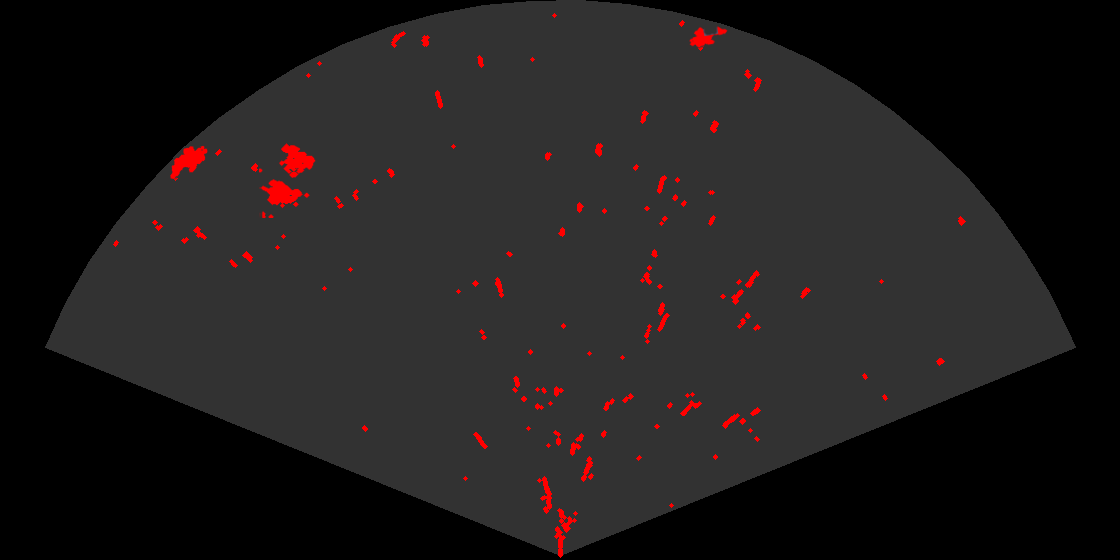AUV: (169, 144, 209, 181), (688, 25, 729, 49)
cage: (259, 142, 317, 218)
